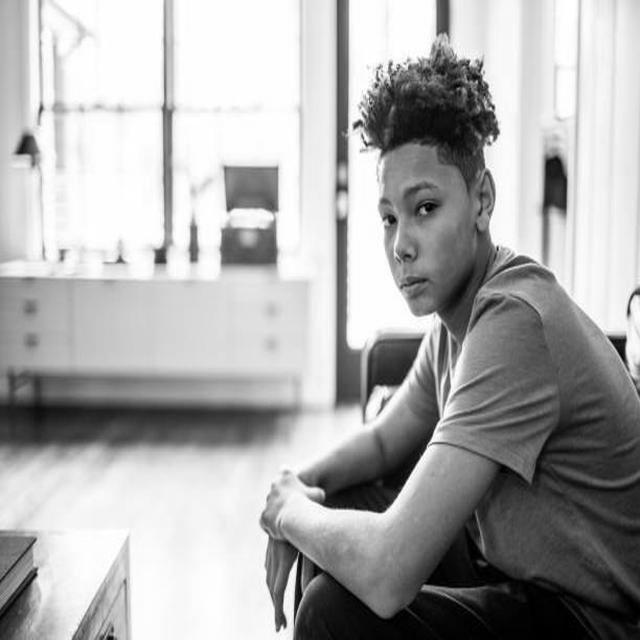Sadness: (377, 142, 474, 316)
